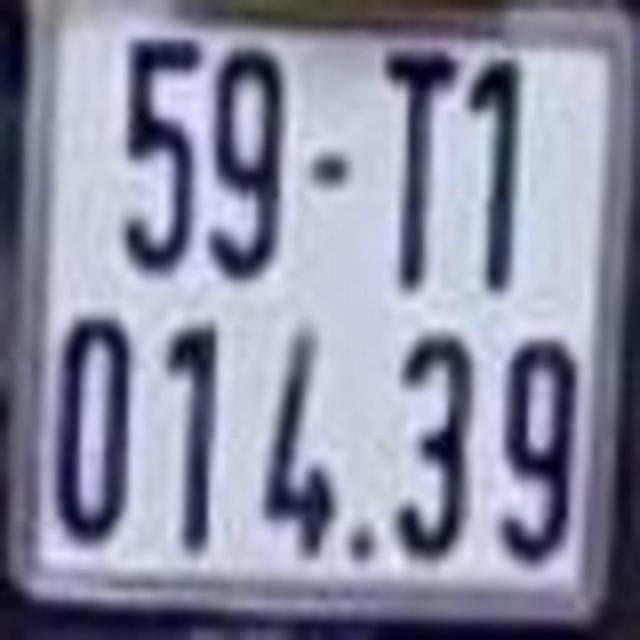0: (54, 316, 134, 540)
1: (163, 320, 229, 551), (467, 56, 528, 294)
3: (394, 330, 484, 568)
4: (261, 323, 336, 552)
5: (123, 31, 197, 268)
9: (213, 45, 283, 276), (503, 341, 572, 574)
T: (381, 44, 459, 295)
